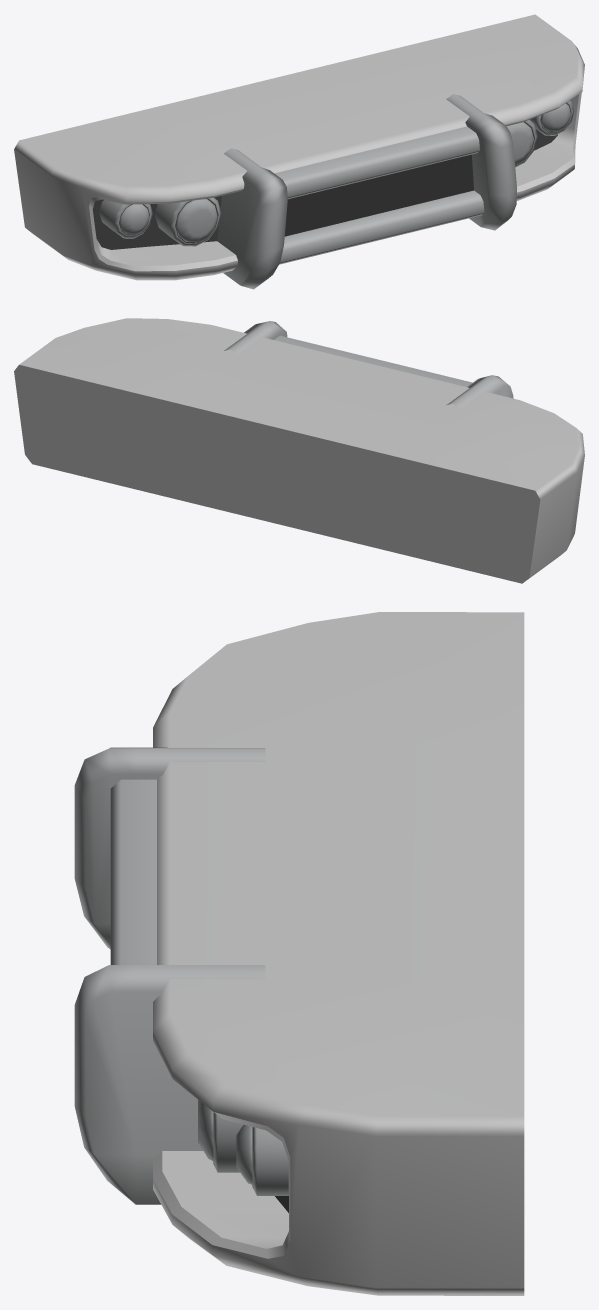
Rendered from Car_13_FrontBumper_Simple.fbx.
The picture shows the model from 3 angles, top to bottom: view 1: azimuth 30°, elevation 25°; view 2: azimuth 150°, elevation 25°; view 3: azimuth 270°, elevation 25°; orthographic projection. The views are drawn at different scales.
Visible parts, largest first — view 1: Car_13_FrontBumper_Simple; view 2: Car_13_FrontBumper_Simple; view 3: Car_13_FrontBumper_Simple.
Part boxes in pixels (x1,y1,x2,y2): Car_13_FrontBumper_Simple: (14, 14, 584, 289); Car_13_FrontBumper_Simple: (14, 318, 584, 583); Car_13_FrontBumper_Simple: (74, 612, 524, 1295).
Size of the model in its own units: 160 by 59.14 by 33.42.
